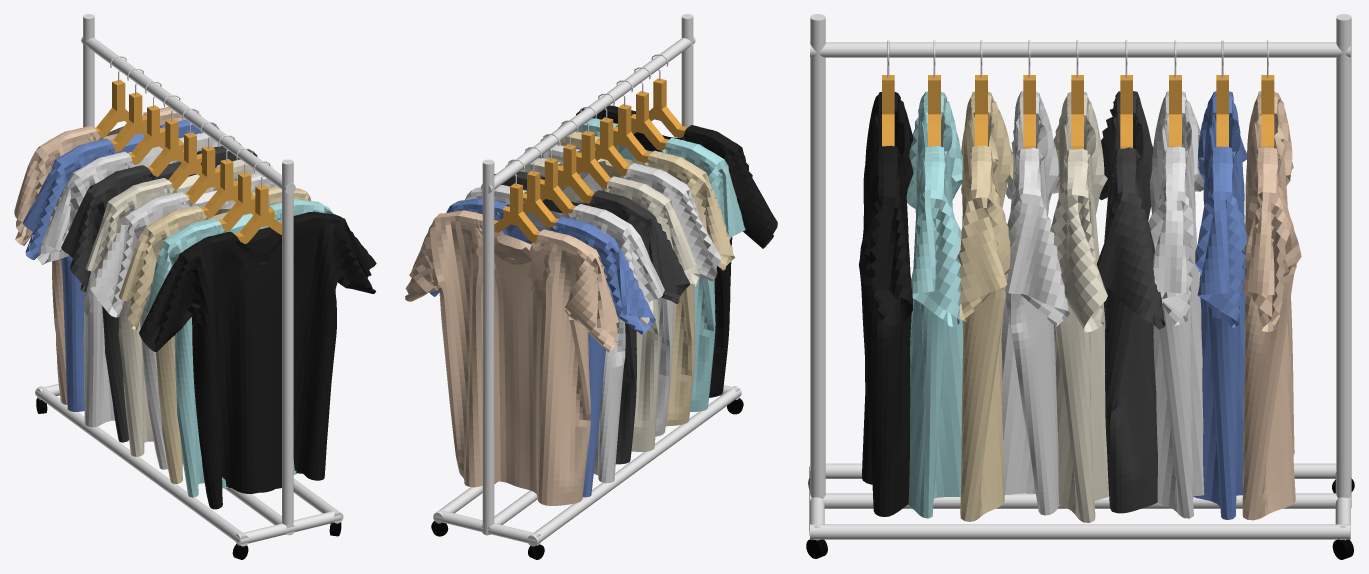
File: Clothing rack finished.fbx
3 renders of one model, left to right at view 1: azimuth 30°, elevation 25°; view 2: azimuth 150°, elevation 25°; view 3: azimuth 270°, elevation 25°, orthographic. The views are drawn at different scales.
Visible parts, largest first — view 1: Cube.008, Cube.005, Cube.001, Cube.006, Cube, Cube.003, Cube.002, Cube.004, Cube.007, Cylinder.003, Cylinder, Cylinder.005 (+13 smaller); view 2: Cube.007, Cube.005, Cube.001, Cube.006, Cube.003, Cube.008, Cube.004, Cube, Cube.002, Cylinder.002, Cylinder.005, Cylinder (+13 smaller); view 3: Cube.004, Cube.002, Cube.007, Cube, Cube.008, Cube.003, Cube.005, Cube.001, Cube.006, Cylinder.004, Cylinder, Cylinder.002 (+12 smaller).
Boxes of the visible parts, x1=… form: Cube.008: x1=139, y1=211, x2=376, y2=509; Cube.005: x1=37, y1=132, x2=241, y2=427; Cube.001: x1=119, y1=186, x2=311, y2=483; Cube.006: x1=23, y1=119, x2=219, y2=411; Cube: x1=146, y1=199, x2=333, y2=497; Cube.003: x1=85, y1=159, x2=272, y2=456; Cube.002: x1=90, y1=172, x2=276, y2=469; Cube.004: x1=61, y1=146, x2=257, y2=442; Cube.007: x1=14, y1=106, x2=200, y2=404; Cylinder.003: x1=282, y1=159, x2=293, y2=534; Cylinder: x1=81, y1=37, x2=295, y2=194; Cylinder.005: x1=35, y1=386, x2=248, y2=546; Cube.007: x1=405, y1=210, x2=619, y2=505; Cube.005: x1=465, y1=185, x2=664, y2=483; Cube.001: x1=540, y1=131, x2=734, y2=426; Cube.006: x1=430, y1=198, x2=655, y2=497; Cube.003: x1=505, y1=158, x2=700, y2=451; Cube.008: x1=576, y1=105, x2=777, y2=397; Cube.004: x1=494, y1=171, x2=690, y2=464; Cube: x1=558, y1=118, x2=745, y2=411; Cube.002: x1=524, y1=144, x2=721, y2=436; Cylinder.002: x1=482, y1=159, x2=494, y2=534; Cylinder.005: x1=527, y1=386, x2=741, y2=546; Cylinder: x1=481, y1=36, x2=695, y2=193; Cube.004: x1=1096, y1=91, x2=1165, y2=513; Cube.002: x1=1001, y1=91, x2=1069, y2=515; Cube.007: x1=1242, y1=91, x2=1301, y2=520; Cube: x1=906, y1=91, x2=963, y2=518; Cube.008: x1=859, y1=92, x2=913, y2=516; Cube.003: x1=1050, y1=92, x2=1109, y2=522; Cube.005: x1=1148, y1=91, x2=1204, y2=518; Cube.001: x1=957, y1=91, x2=1013, y2=521; Cube.006: x1=1193, y1=91, x2=1246, y2=519; Cylinder.004: x1=810, y1=524, x2=1350, y2=539; Cylinder: x1=810, y1=42, x2=1350, y2=57; Cylinder.002: x1=1336, y1=14, x2=1351, y2=508.
Bounding box in the file's own units: 356 × 546 × 533.
